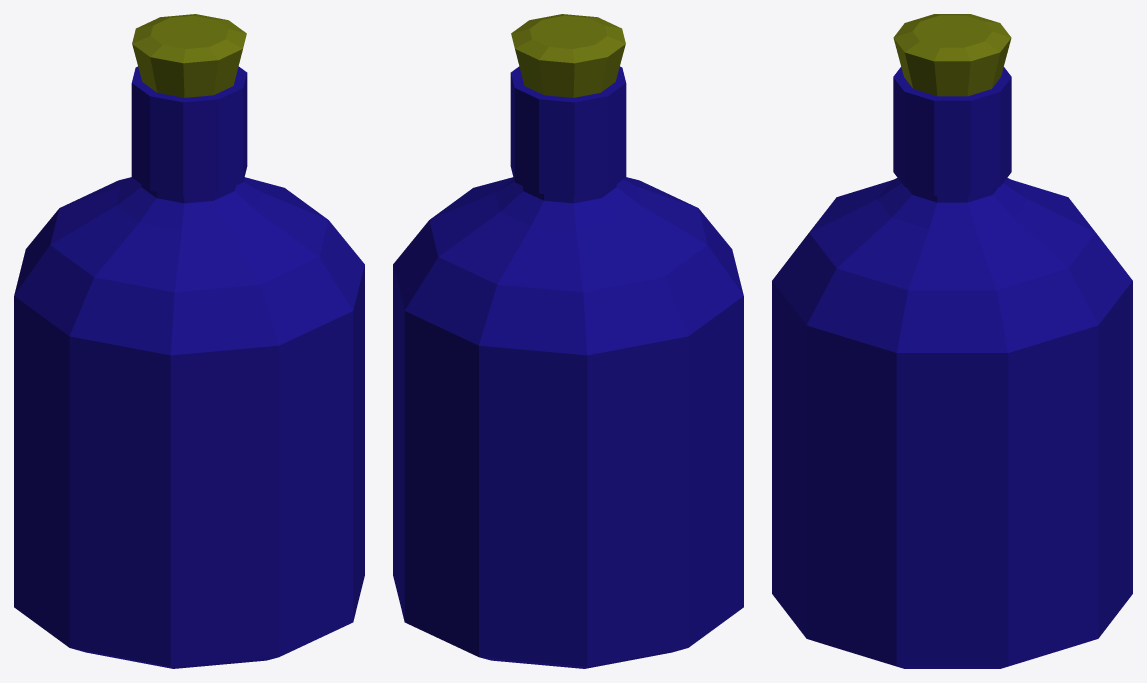
File: _ottle_1.fbx
3 views of the same model, side by side, from view 1: azimuth 30°, elevation 25°; view 2: azimuth 150°, elevation 25°; view 3: azimuth 270°, elevation 25° (orthographic).
Parts seen in each view (by area): view 1: Cylinder.032; view 2: Cylinder.032; view 3: Cylinder.032.
Part boxes in pixels (box(x1,y1,x2,y2)): Cylinder.032: box(14, 14, 364, 668); Cylinder.032: box(393, 14, 743, 668); Cylinder.032: box(772, 14, 1132, 668).
Bounding box in the file's own units: 16.61 × 30.72 × 17.47.
